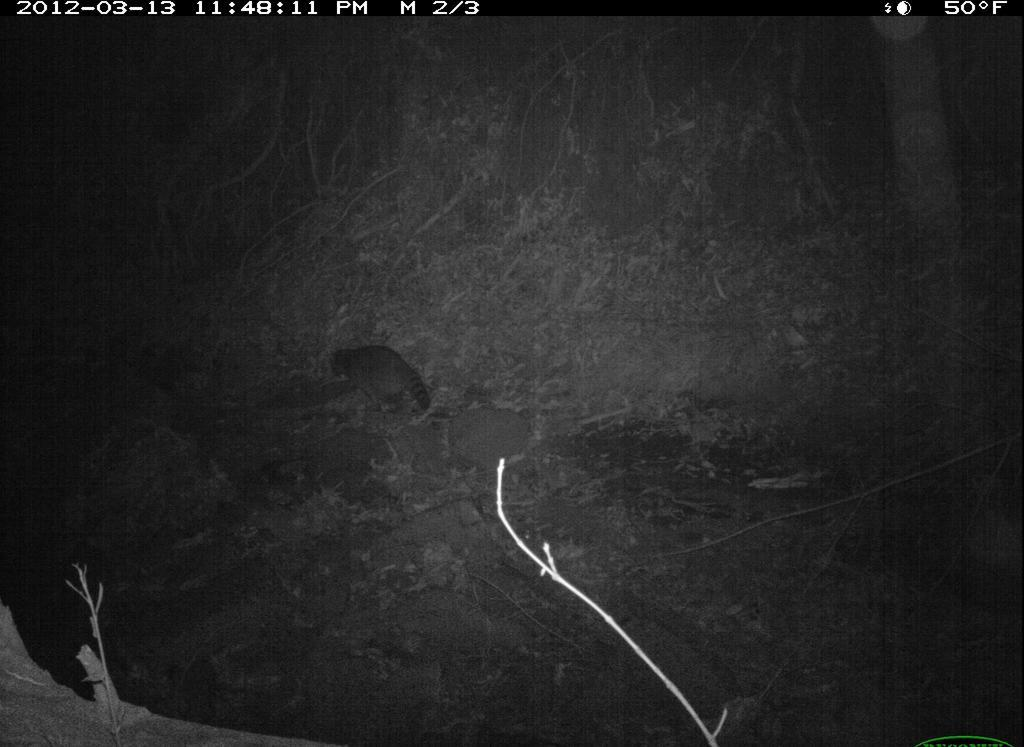raccoon: (319, 336, 440, 431)
